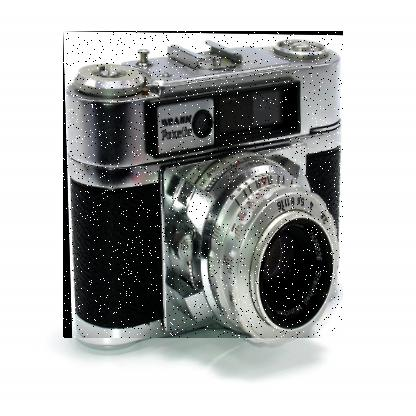Camera: (64, 32, 345, 340)
